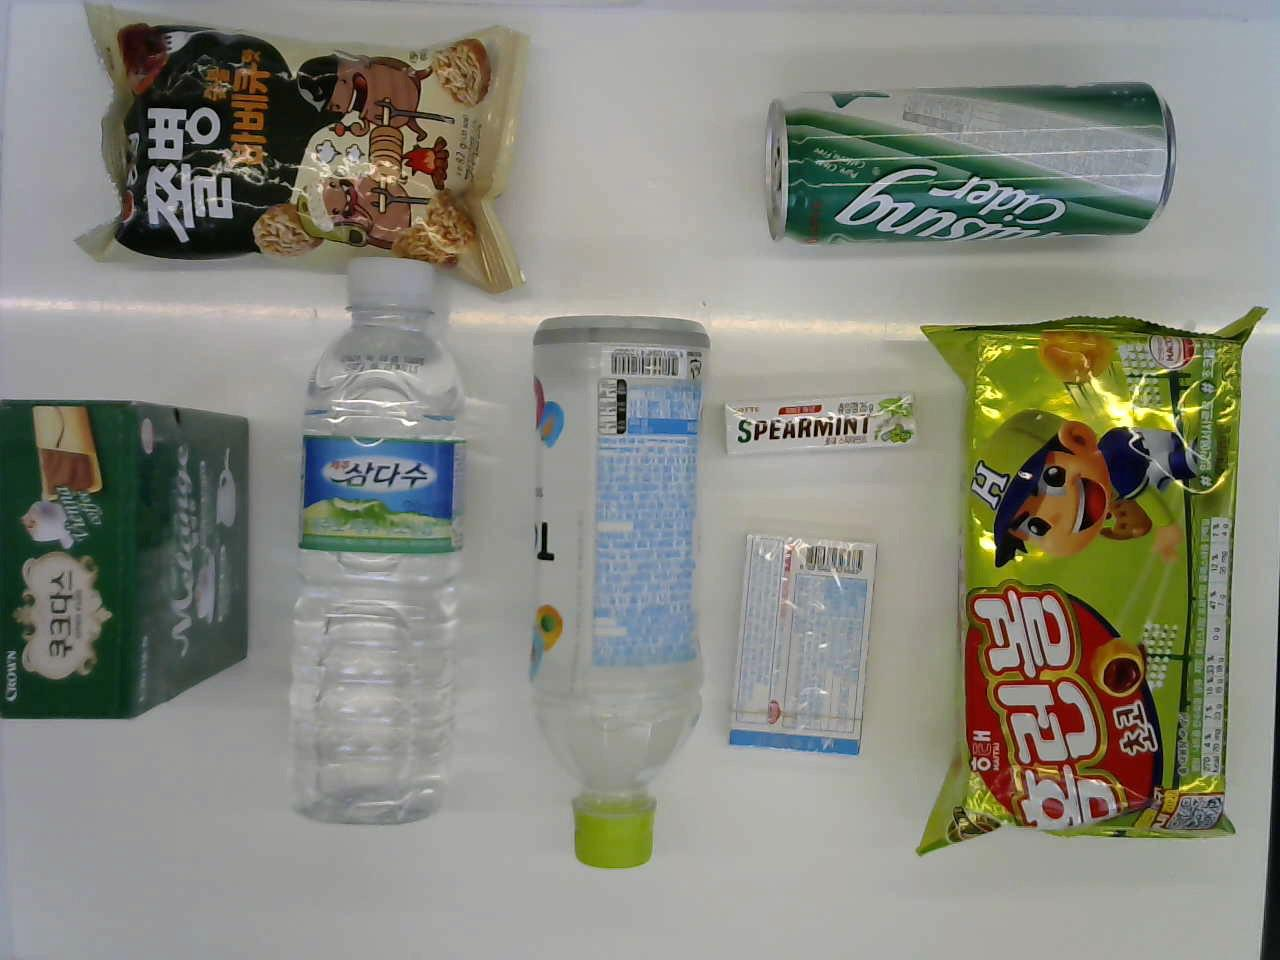ID_gum: (717, 519, 897, 776)
cidar: (756, 53, 1180, 255)
couque_coffee: (0, 377, 260, 742)
homerunball: (919, 302, 1263, 851)
jjolbyung_ori: (59, 18, 548, 282)
samdasu: (293, 257, 481, 831)
spearmint: (708, 381, 927, 461)
toreta: (526, 301, 721, 885)
